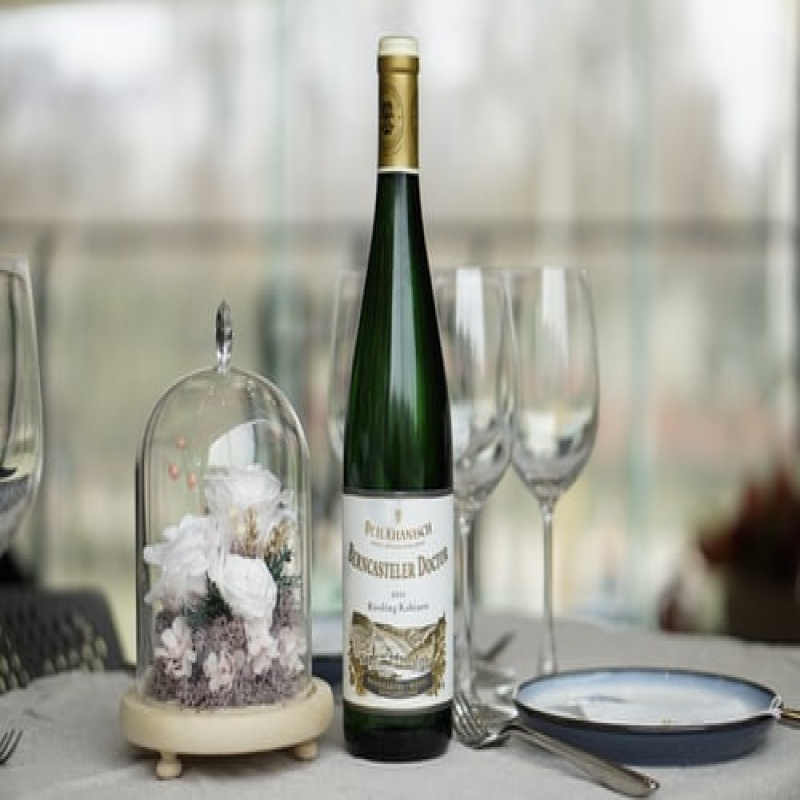wine: (334, 38, 459, 766)
